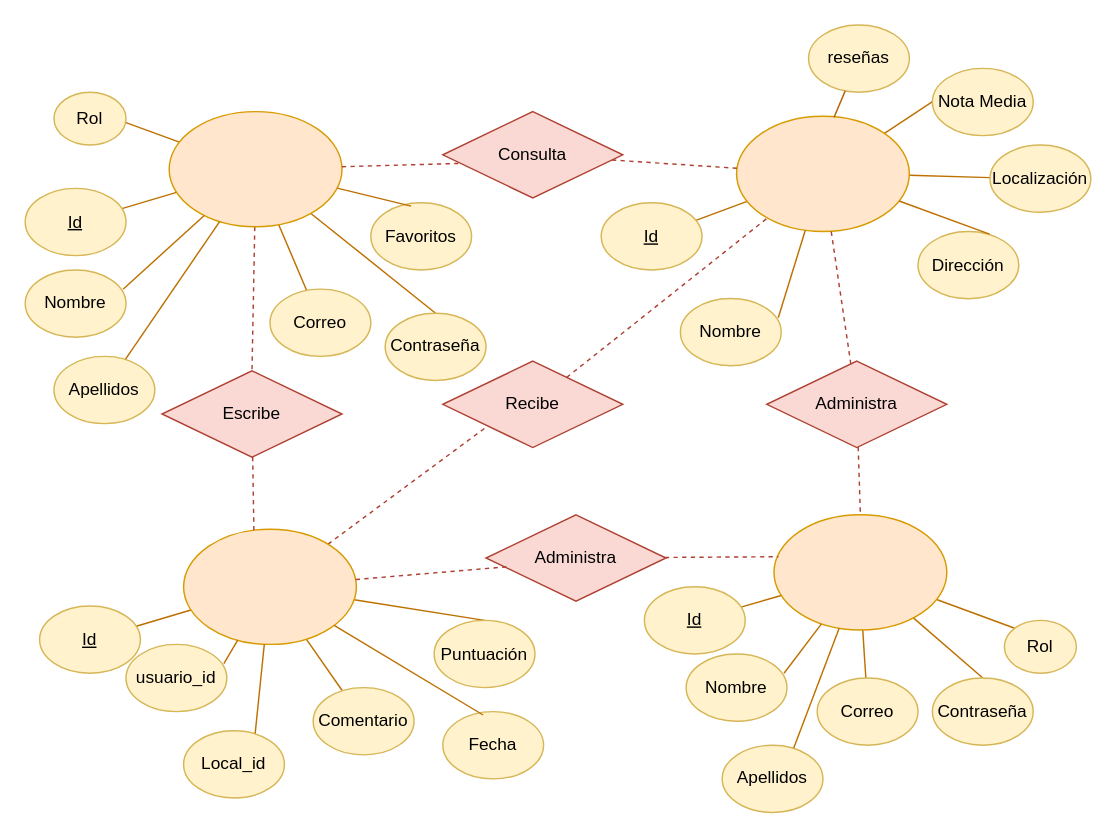
This 1116x838 diagram has some shape labels left out. Each missing label, with the centre of its shape:
"Administrador" goes at point (860, 571).
"Establecimiento" goes at point (822, 173).
"Reseña" goes at point (269, 586).
"Usuario" goes at point (255, 168).
